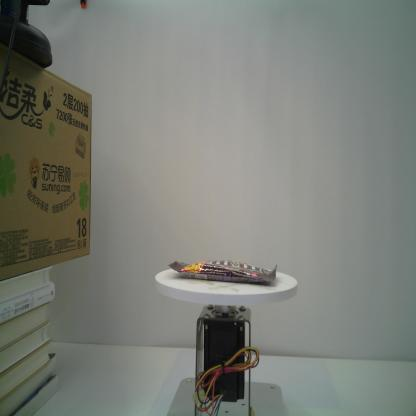Chocolate: (168, 256, 280, 287)
